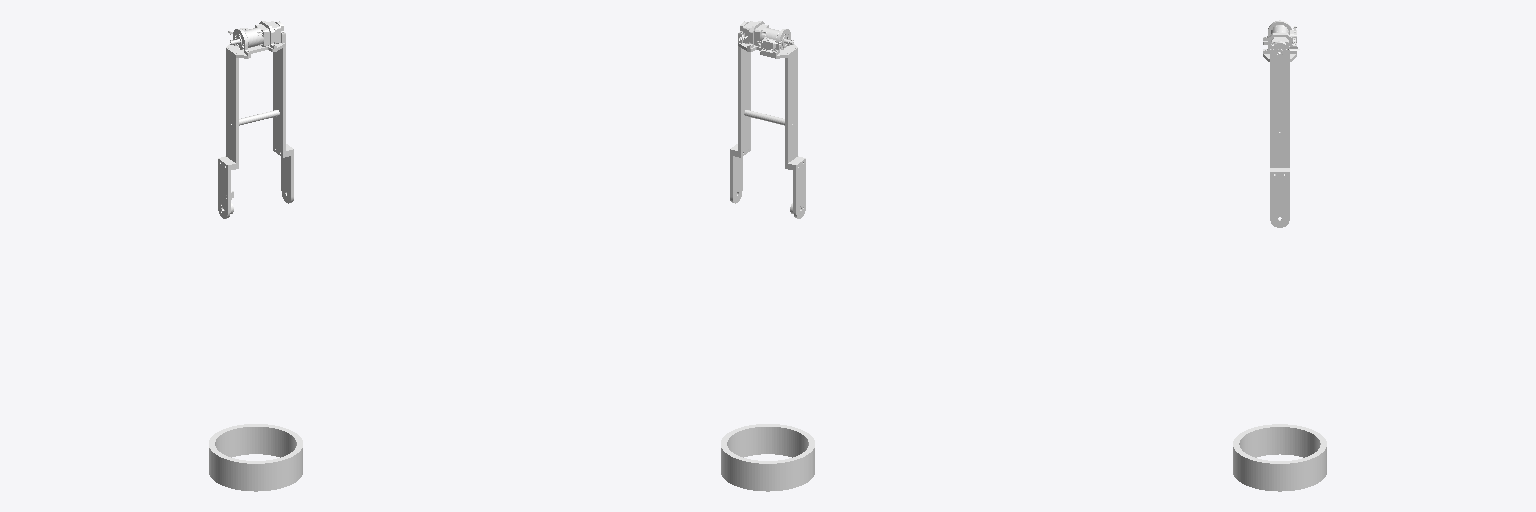
The robot description file, URDF, robot "sketch_bot":
<?xml version="1.0" ?>
<!-- =================================================================================== -->
<!-- |    This document was autogenerated by xacro from sketch_bot.xacro               | -->
<!-- |    EDITING THIS FILE BY HAND IS NOT RECOMMENDED                                 | -->
<!-- =================================================================================== -->
<robot name="sketch_bot">
  <!-- <xacro:include filename="$(find sketch_bot_resources)/urdf/common_materials.xacro"/> -->
  <material name="dark_yellow">
    <color rgba="0.75 0.55 0.15 1.0"/>
  </material>
  <material name="white">
    <color rgba="1.0 1.0 1.0 1.0"/>
  </material>
  <material name="dark_grey">
    <color rgba="0.1 0.1 0.1 1.0"/>
  </material>
  <!-- links: main serial chain -->
  <link name="base_link">
    <visual>
      <origin rpy="0 0 0.0" xyz="0 0 0"/>
      <geometry>
        <mesh filename="package://sketch_bot_support/meshes/visual/base_link.stl" scale="1.0 1.0 1.0"/>
      </geometry>
      <material name="dark_grey"/>
    </visual>
    <collision>
      <origin rpy="0 0 0.0" xyz="0 0 0"/>
      <geometry>
        <mesh filename="package://sketch_bot_support/meshes/collision/base_link.stl" scale="1.0 1.0 1.0"/>
      </geometry>
    </collision>
  </link>
  <link name="link_1">
    <visual>
      <origin rpy="0 0 0.0" xyz="0 0 0"/>
      <geometry>
        <mesh filename="package://sketch_bot_support/meshes/visual/link_1.stl" scale="1.0 1.0 1.0"/>
      </geometry>
      <material name="white"/>
    </visual>
    <collision>
      <origin rpy="0 0 0.0" xyz="0 0 0"/>
      <geometry>
        <mesh filename="package://sketch_bot_support/meshes/collision/link_1.stl" scale="1.0 1.0 1.0"/>
      </geometry>
    </collision>
  </link>
  <link name="link_2">
    <visual>
      <origin rpy="0 0 0.0" xyz="0 0 -0.15785"/>
      <geometry>
        <mesh filename="package://sketch_bot_support/meshes/visual/link_2.stl" scale="1.0 1.0 1.0"/>
      </geometry>
      <material name="dark_yellow"/>
    </visual>
    <collision>
      <origin rpy="0 0 0.0" xyz="0 0 -0.15785"/>
      <geometry>
        <mesh filename="package://sketch_bot_support/meshes/collision/link_2.stl" scale="1.0 1.0 1.0"/>
      </geometry>
    </collision>
  </link>
  <link name="link_3">
    <visual>
      <origin rpy="0 0 0.0" xyz="0 0 -0.51345"/>
      <geometry>
        <mesh filename="package://sketch_bot_support/meshes/visual/link_3.stl" scale="1.0 1.0 1.0"/>
      </geometry>
      <material name="white"/>
    </visual>
    <collision>
      <origin rpy="0 0 0.0" xyz="0 0 -0.51345"/>
      <geometry>
        <mesh filename="package://sketch_bot_support/meshes/collision/link_3.stl" scale="1.0 1.0 1.0"/>
      </geometry>
    </collision>
  </link>
  <link name="link_4">
    <visual>
      <origin rpy="0 0 0.0" xyz="0 0 -0.865579"/>
      <geometry>
        <mesh filename="package://sketch_bot_support/meshes/visual/link_4.stl" scale="1.0 1.0 1.0"/>
      </geometry>
      <material name="dark_yellow"/>
    </visual>
    <collision>
      <origin rpy="0 0 0.0" xyz="0 0 -0.865579"/>
      <geometry>
        <mesh filename="package://sketch_bot_support/meshes/collision/link_4.stl" scale="1.0 1.0 1.0"/>
      </geometry>
    </collision>
  </link>
  <!-- joints: main serial chain -->
  <joint name="joint_1" type="revolute">
    <origin rpy="0 0 0" xyz="0 0 0"/>
    <parent link="base_link"/>
    <child link="link_1"/>
    <axis xyz="0 0 1"/>
    <limit effort="0" lower="-3.141592653589793" upper="3.141592653589793" velocity="2.0943951023931953"/>
  </joint>
  <joint name="joint_2" type="revolute">
    <origin rpy="0 0 0" xyz="0 0 0.15785"/>
    <parent link="link_1"/>
    <child link="link_2"/>
    <axis xyz="1 0 0"/>
    <limit effort="0" lower="-3.141592653589793" upper="3.141592653589793" velocity="2.0943951023931953"/>
  </joint>
  <joint name="joint_3" type="revolute">
    <origin rpy="0 0 0" xyz="0 0 0.3556"/>
    <parent link="link_2"/>
    <child link="link_3"/>
    <axis xyz="1 0 0"/>
    <limit effort="0" lower="-3.141592653589793" upper="3.141592653589793" velocity="2.0943951023931953"/>
  </joint>
  <joint name="joint_4" type="revolute">
    <origin rpy="0 0 0" xyz="0 0 0.352129"/>
    <parent link="link_3"/>
    <child link="link_4"/>
    <axis xyz="1 0 0"/>
    <limit effort="0" lower="-3.141592653589793" upper="3.141592653589793" velocity="2.0943951023931953"/>
  </joint>
  <!-- ROS-Industrial 'tool0' frame: all-zeros tool frame -->
  <link name="tool0"/>
  <joint name="link_4-tool0" type="fixed">
    <origin rpy="0 0 0" xyz="0 0 0.0943"/>
    <parent link="link_4"/>
    <child link="tool0"/>
  </joint>
  <link name="base_elevation">
    <visual>
      <origin rpy="0 0 0" xyz="0 0 0"/>
      <geometry>
        <mesh filename="package://sketch_bot_support/meshes/visual/base_elevation.stl" scale="1.0 1.0 1.0"/>
      </geometry>
      <material name="white"/>
    </visual>
    <collision>
      <origin rpy="0 0 0" xyz="0 0 0"/>
      <geometry>
        <mesh filename="package://sketch_bot_support/meshes/collision/base_elevation.stl" scale="1.0 1.0 1.0"/>
      </geometry>
    </collision>
  </link>
  <joint name="base_elevation-base_link" type="fixed">
    <origin rpy="0 0 0" xyz="0 0 0"/>
    <parent link="base_elevation"/>
    <child link="base_link"/>
  </joint>
</robot>

--- Render facts (derived) ---
The picture shows the robot from 3 angles, left to right: view 1: azimuth 30°, elevation 25°; view 2: azimuth 150°, elevation 25°; view 3: azimuth 270°, elevation 25°; orthographic projection.
Robot: sketch_bot — 7 links, 6 joints (4 revolute, 2 fixed); root link base_elevation; default pose: all joints at 0.
Visible links, largest first — view 1: link_3, base_elevation; view 2: link_3, base_elevation; view 3: base_elevation, link_3.
Link boxes in pixels (x1,y1,x2,y2): link_3: (218, 21, 293, 218); base_elevation: (209, 424, 302, 491); link_3: (730, 21, 805, 218); base_elevation: (721, 424, 814, 491); base_elevation: (1233, 424, 1326, 491); link_3: (1263, 20, 1299, 227).
Size in the robot's own frame: 0.184 by 0.184 by 0.9553 metres.
Meshes: 6 distinct files referenced, 2 mesh visuals loaded (2 binary STL); not drawn: 4 (reference not matched to a file when rendering).